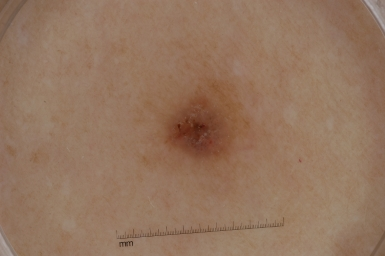seborrheic keratosis: (141, 69, 249, 182)
